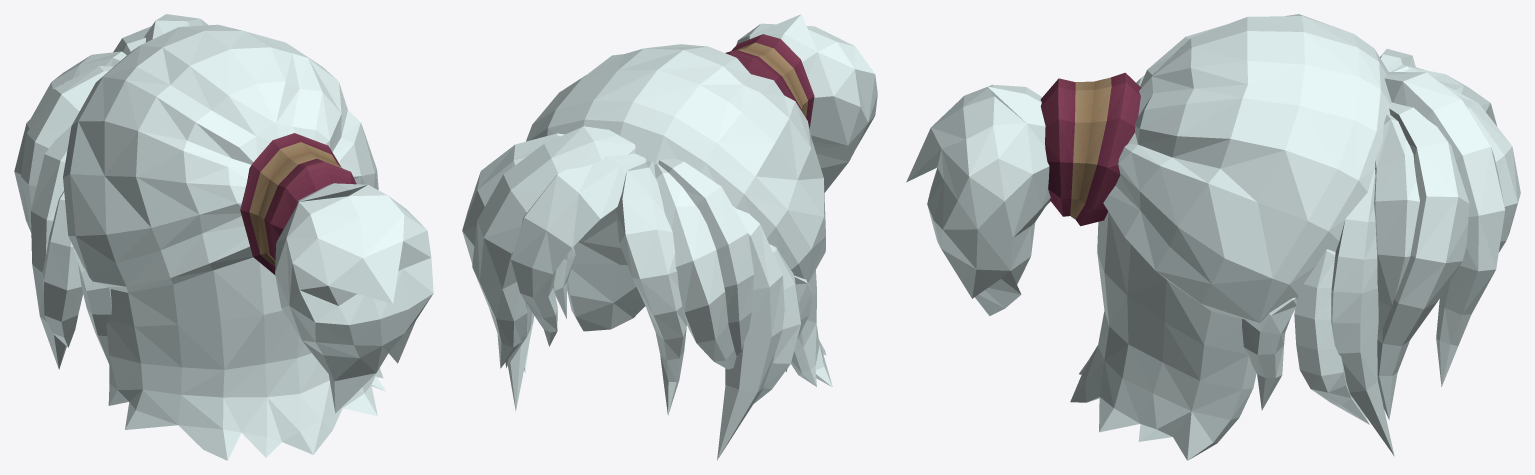
The model's file is CharSkyKid_Hair_AP18SlickBack.glb.
The picture shows the model from 3 angles, left to right: view 1: azimuth 30°, elevation 25°; view 2: azimuth 150°, elevation 25°; view 3: azimuth 270°, elevation 25°; orthographic projection. The views are drawn at different scales.
Parts seen in each view (by area): view 1: CharSkyKid_Hair_AP18SlickBack; view 2: CharSkyKid_Hair_AP18SlickBack; view 3: CharSkyKid_Hair_AP18SlickBack.
Boxes of the visible parts, x1=… form: CharSkyKid_Hair_AP18SlickBack: x1=14, y1=14, x2=433, y2=460; CharSkyKid_Hair_AP18SlickBack: x1=462, y1=14, x2=877, y2=460; CharSkyKid_Hair_AP18SlickBack: x1=906, y1=14, x2=1520, y2=460.
Bounding box in the file's own units: 2.86 × 3.1 × 4.65.
Materials: 1 (1 with a texture image).
